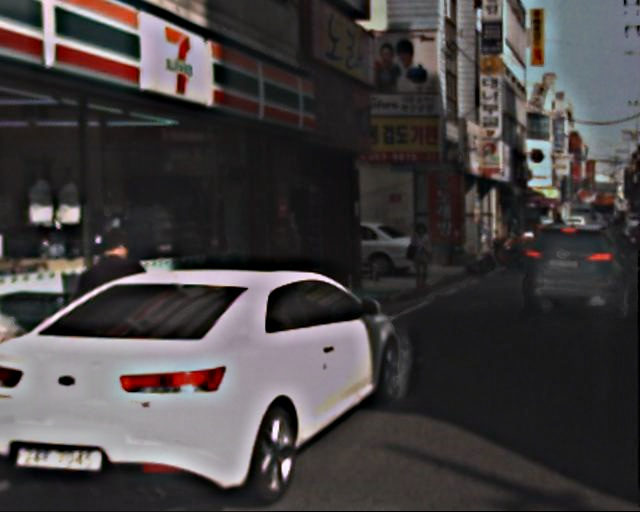person: (88, 226, 155, 383), (406, 222, 447, 296)
